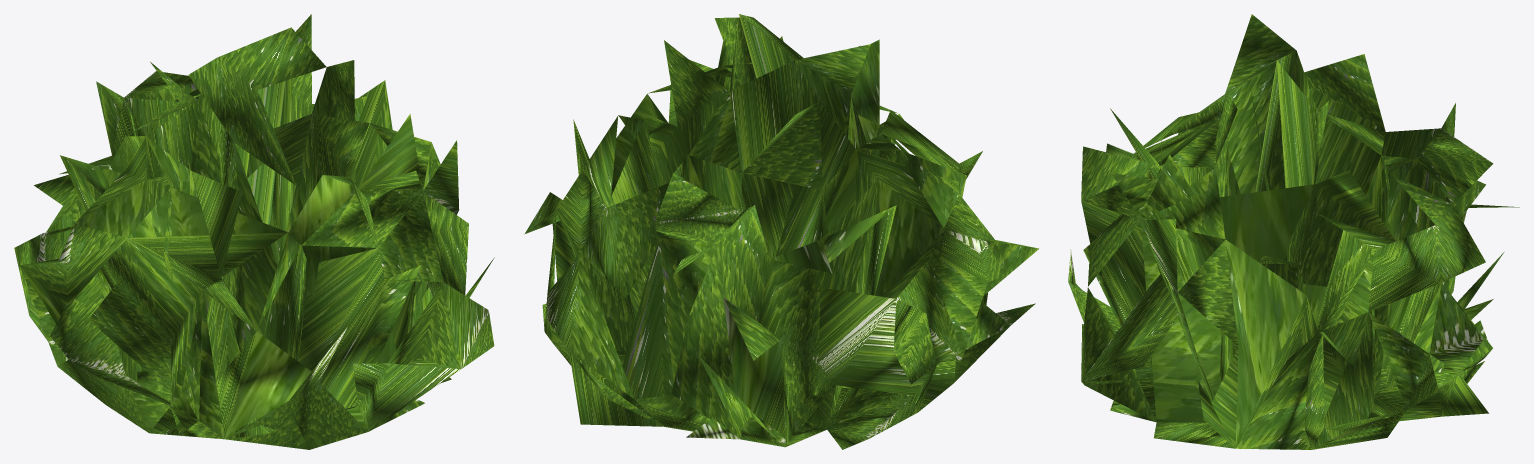
Rendered from grass_clover.glb.
3 renders of one model, left to right at view 1: azimuth 30°, elevation 25°; view 2: azimuth 150°, elevation 25°; view 3: azimuth 270°, elevation 25°, orthographic. The views are drawn at different scales.
Bounding box in the file's own units: 0.9092 × 0.7018 × 0.8381.
1 material, 1 textured.
